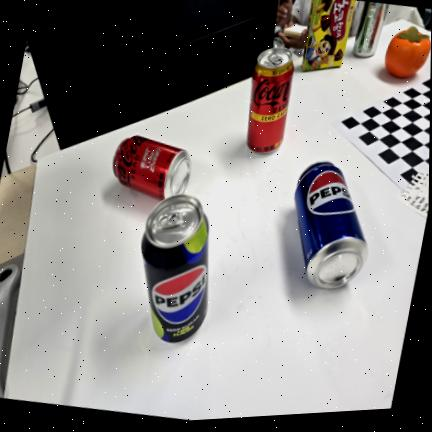can_coke_decaf: (247, 49, 294, 154)
can_coke_zero: (113, 136, 191, 200)
can_pepsi: (295, 161, 368, 288)
can_pepsi_zero: (141, 195, 209, 343)
